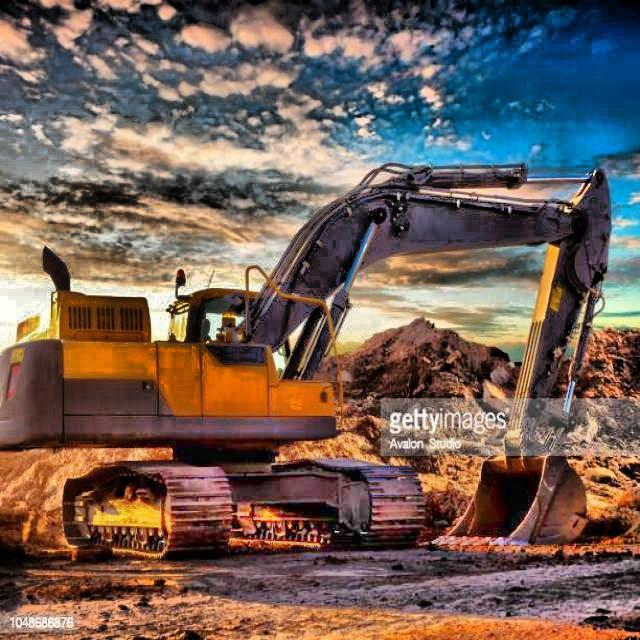excavator: (0, 161, 614, 562)
